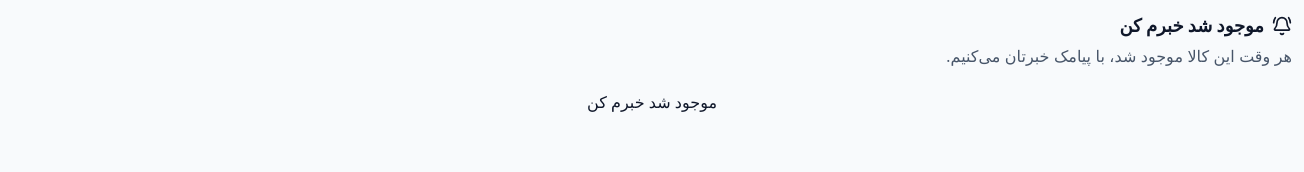
Test case: NotifyMe for a signed-in shopper › sends an empty body: the name and mobile come from the account
Click the button "موجود شد خبرم کن" at point(652, 102), box top-left (12, 80), bottom-right (1292, 124)
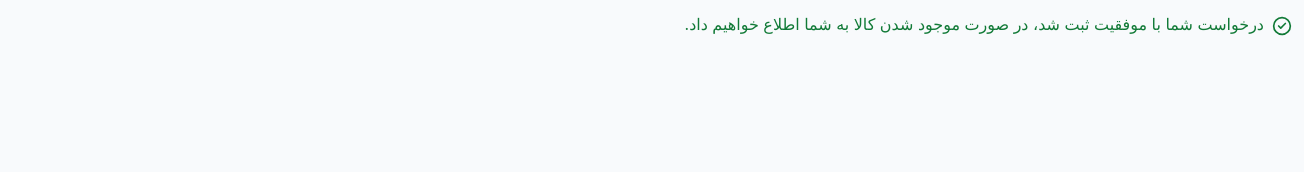
Expected: the message reads "درخواست شما با موفقیت ثبت شد، در صورت موجود شدن کالا به شما اطلاع خواهیم داد.", top-left (684, 14), bottom-right (1264, 34)
